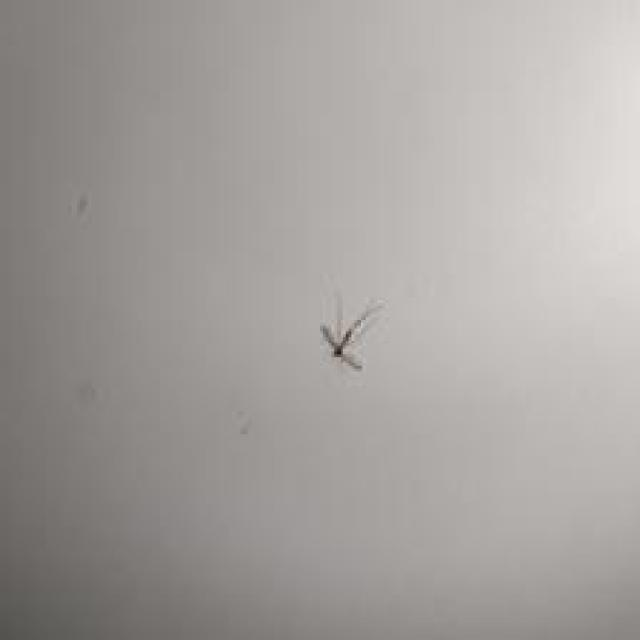Culex: (319, 292, 384, 372)
